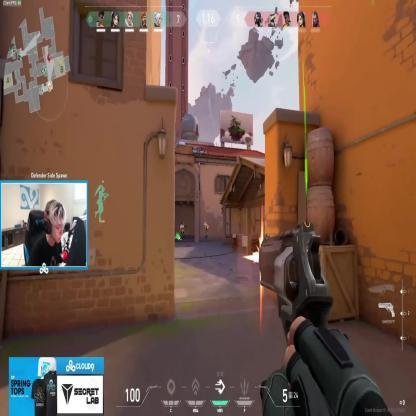enemy: (204, 223, 208, 242), (180, 221, 184, 239)
enemy_head: (206, 223, 208, 226)
